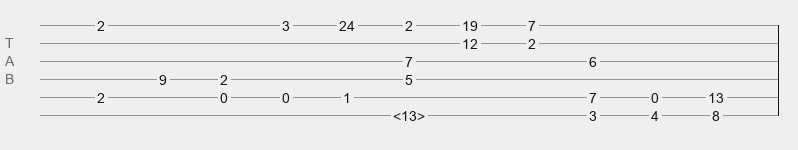0: (220, 90, 228, 100), (282, 90, 290, 100), (651, 90, 659, 100)
1: (343, 90, 351, 100)
12: (462, 36, 478, 46)
13: (708, 90, 724, 100)
19: (462, 18, 478, 28)
2: (97, 18, 105, 28), (97, 90, 105, 100), (220, 72, 228, 82), (405, 18, 413, 28), (528, 36, 536, 46)
24: (339, 18, 355, 28)
3: (282, 18, 290, 28), (589, 108, 597, 118)
4: (651, 108, 659, 118)
5: (405, 72, 413, 82)
6: (589, 54, 597, 64)
7: (405, 54, 413, 64), (528, 18, 536, 28), (589, 90, 597, 100)
8: (712, 108, 720, 118)
9: (159, 72, 167, 82)
harmonic: (393, 108, 425, 118)
